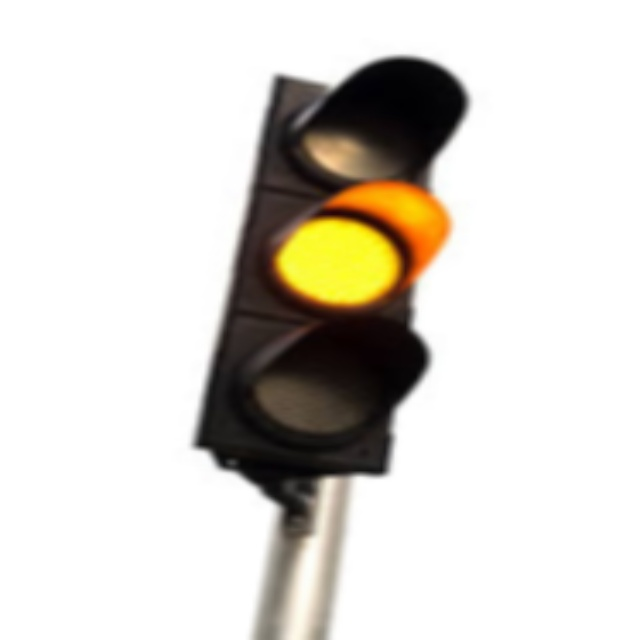yellow_light: (245, 198, 430, 316)
